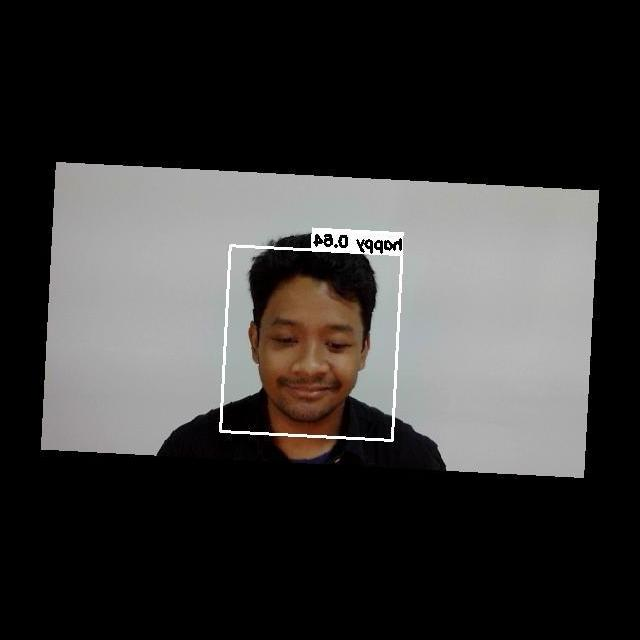Happy: (254, 300, 365, 411)
